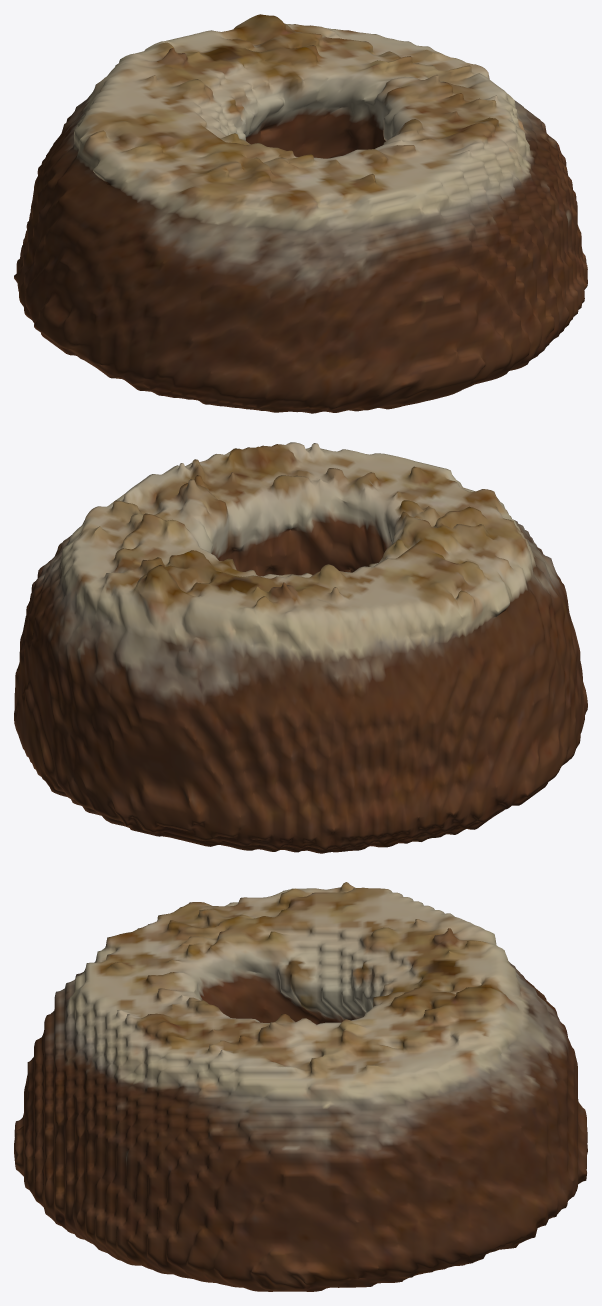
File: carrot-cake.glb
3 views of the same model, one above another, from view 1: azimuth 30°, elevation 25°; view 2: azimuth 150°, elevation 25°; view 3: azimuth 270°, elevation 25° (orthographic). The views are drawn at different scales.
Parts seen in each view (by area): view 1: carrot-cake; view 2: carrot-cake; view 3: carrot-cake.
Boxes of the visible parts, x1=… form: carrot-cake: x1=14, y1=14, x2=587, y2=413; carrot-cake: x1=14, y1=442, x2=587, y2=853; carrot-cake: x1=14, y1=882, x2=587, y2=1291.
Bounding box in the file's own units: 0.0998 × 0.0455 × 0.1.
